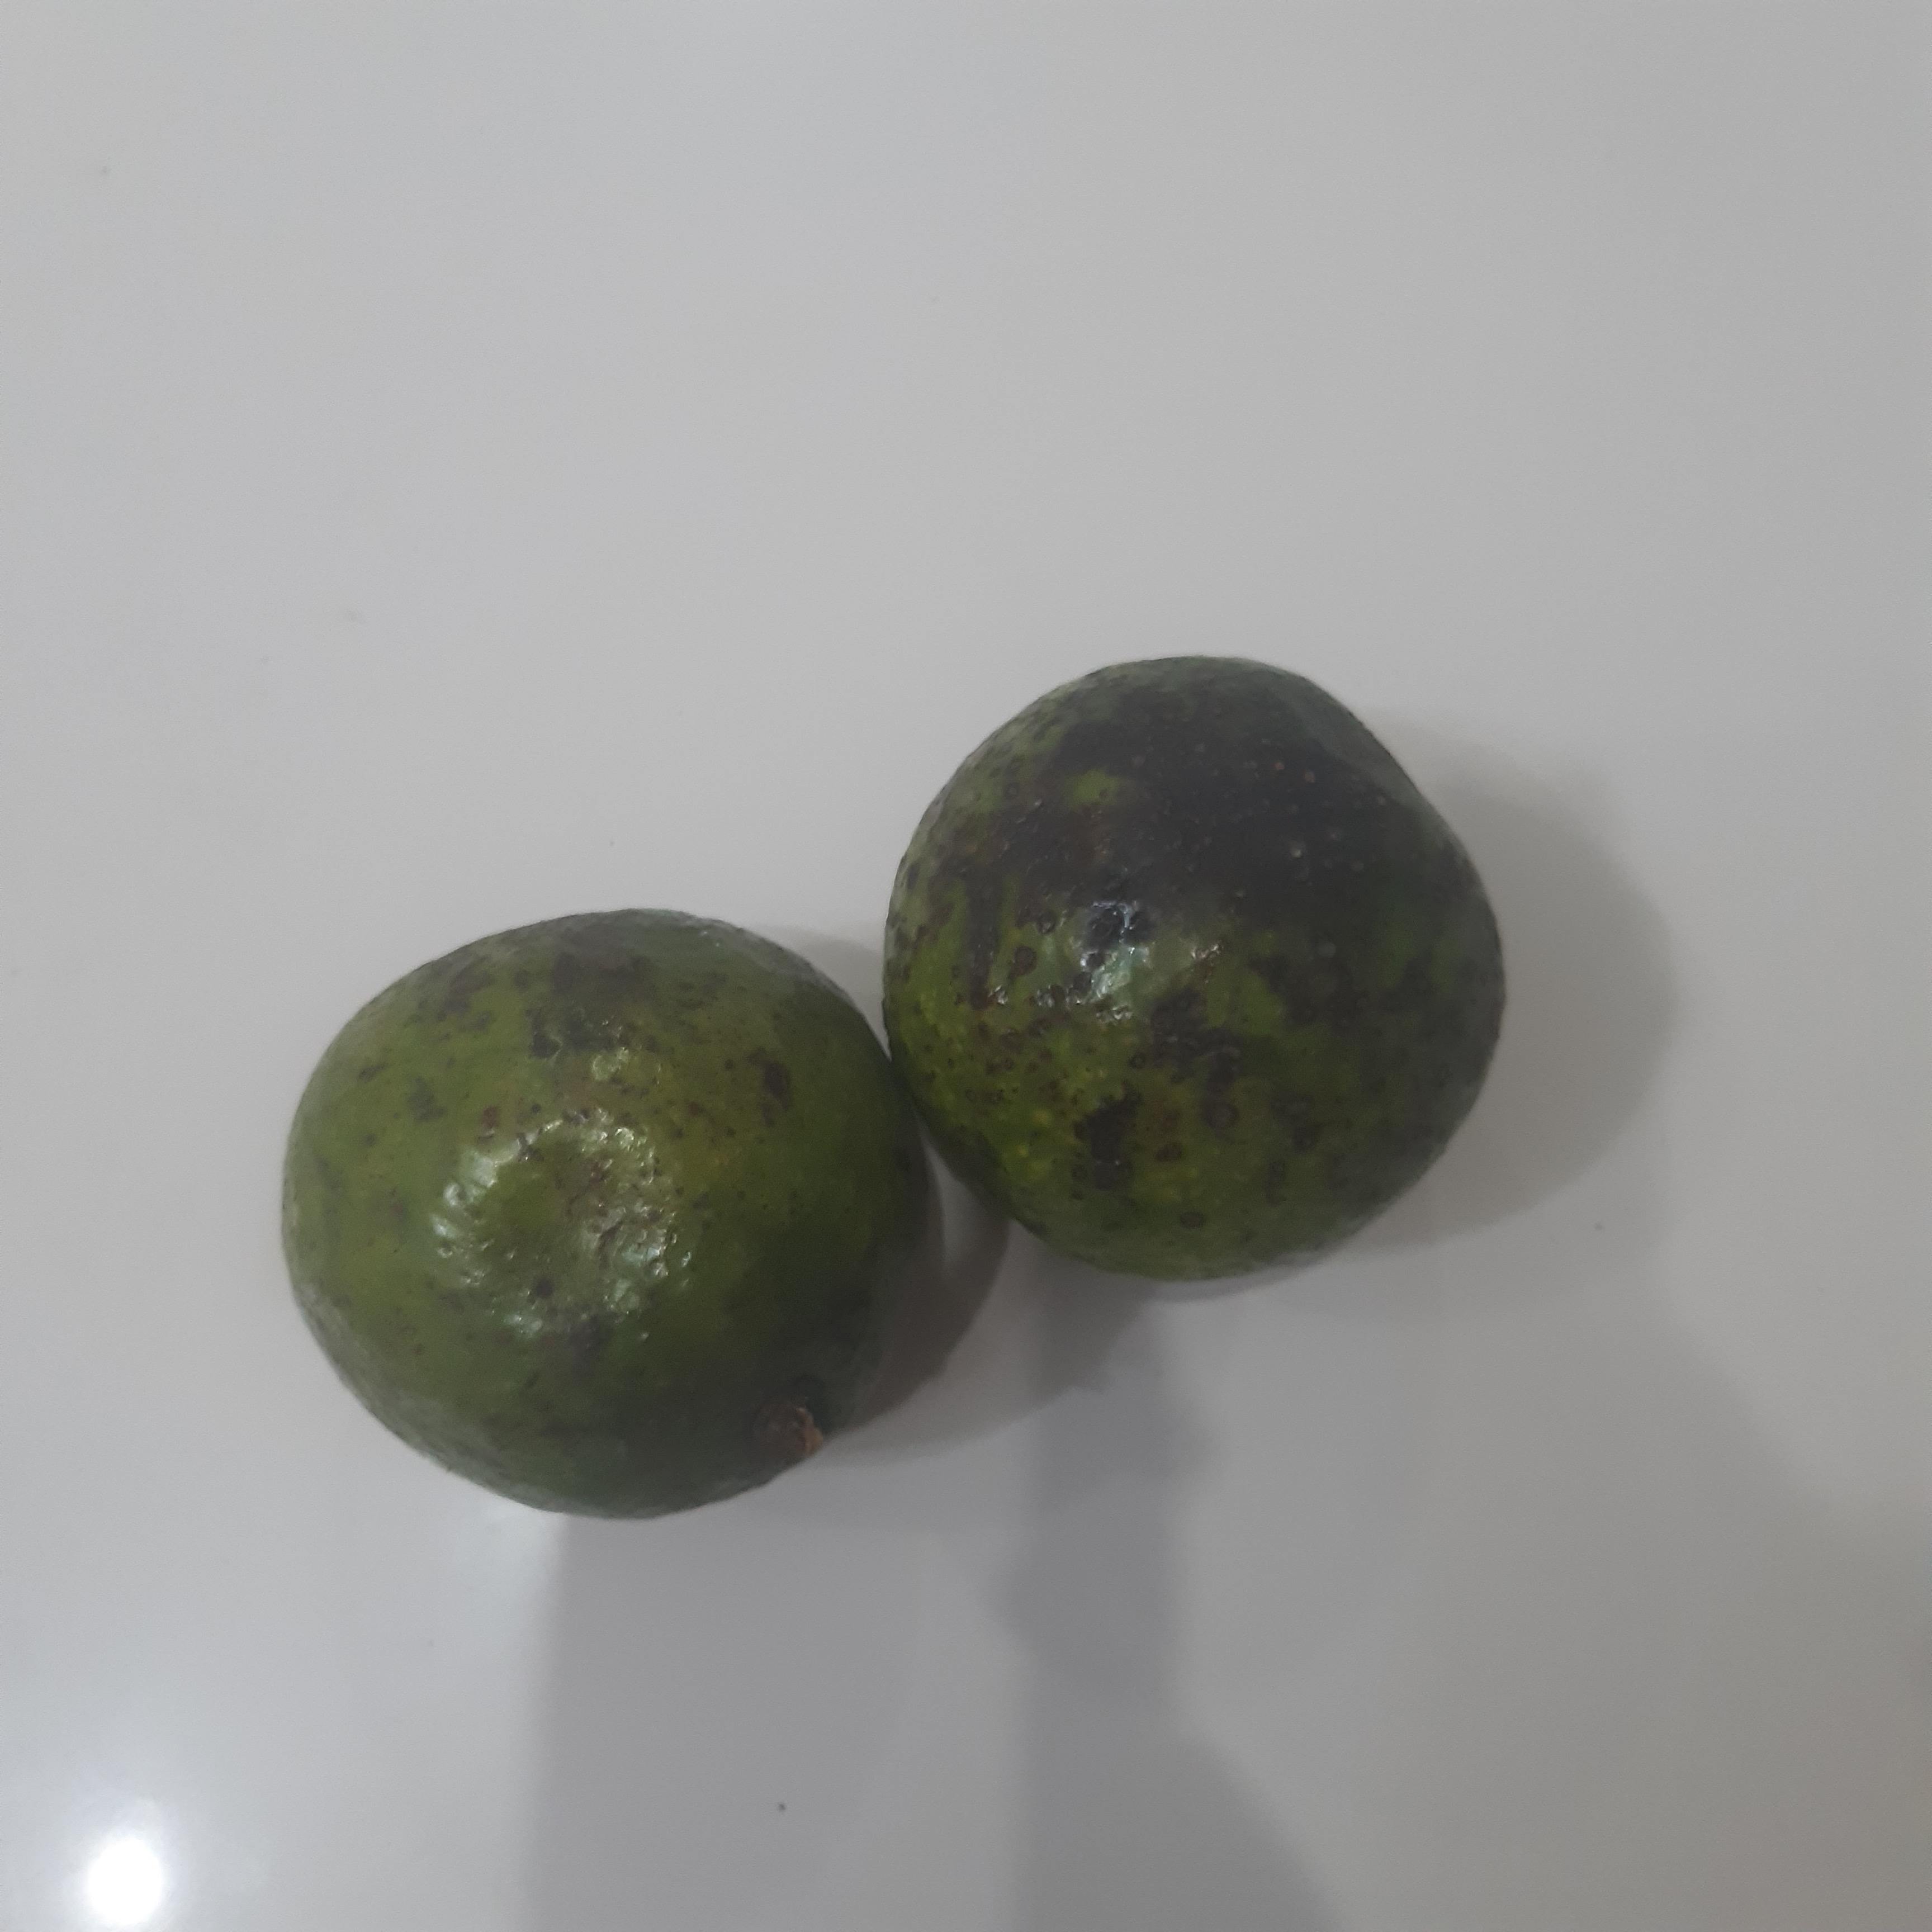Bo: (278, 906, 947, 1529), (874, 660, 1502, 1286)
